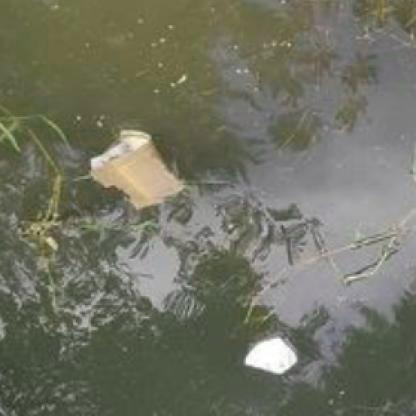Trash: (83, 126, 192, 214), (240, 333, 299, 378)
